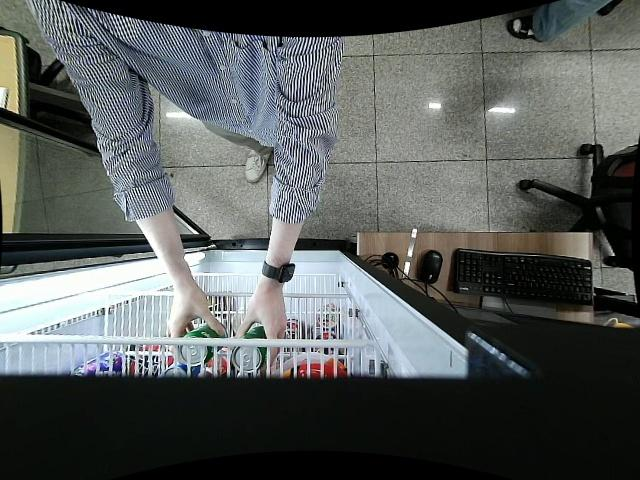00_hand: (235, 293, 290, 367), (166, 292, 225, 356)
12_chilsungCider: (179, 323, 229, 369), (232, 323, 270, 372)
